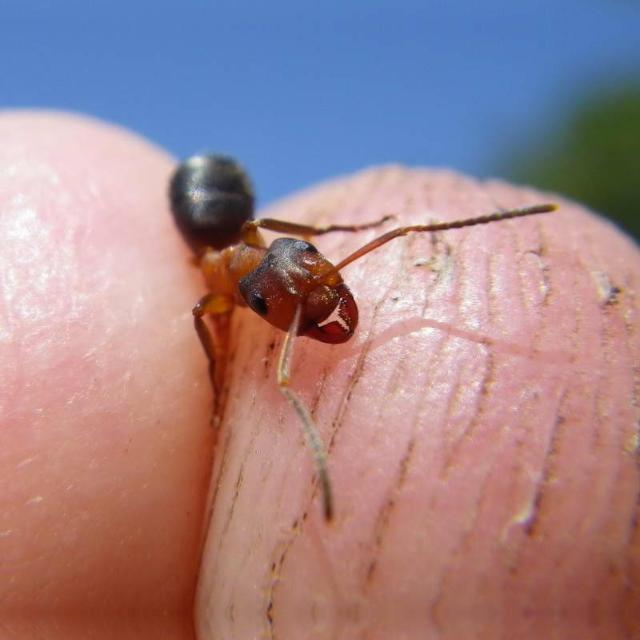Formica: (106, 107, 592, 491)
